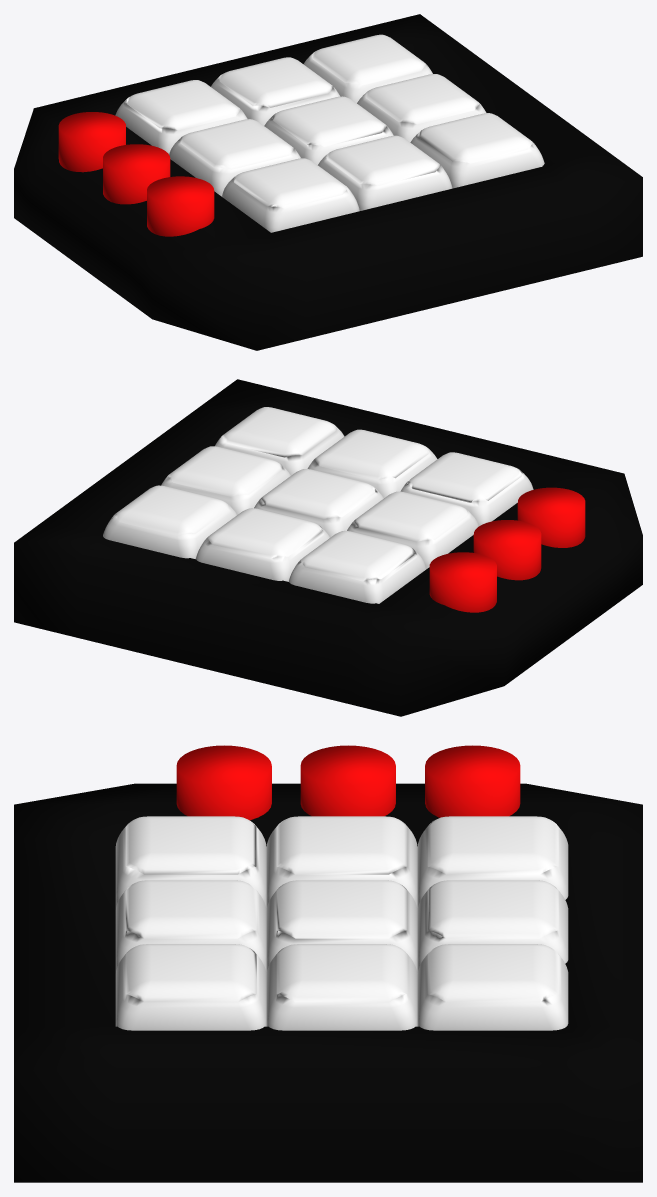
File: numpad 1.fbx
The picture shows the model from 3 angles, top to bottom: view 1: azimuth 30°, elevation 25°; view 2: azimuth 150°, elevation 25°; view 3: azimuth 270°, elevation 25°; orthographic projection. The views are drawn at different scales.
Parts seen in each view (by area): view 1: Cube; view 2: Cube; view 3: Cube.
Part boxes in pixels (x1,y1,x2,y2): Cube: [14, 14, 642, 350]; Cube: [14, 379, 642, 716]; Cube: [14, 745, 642, 1182].
Size of the model in its own units: 966 by 236 by 833.
